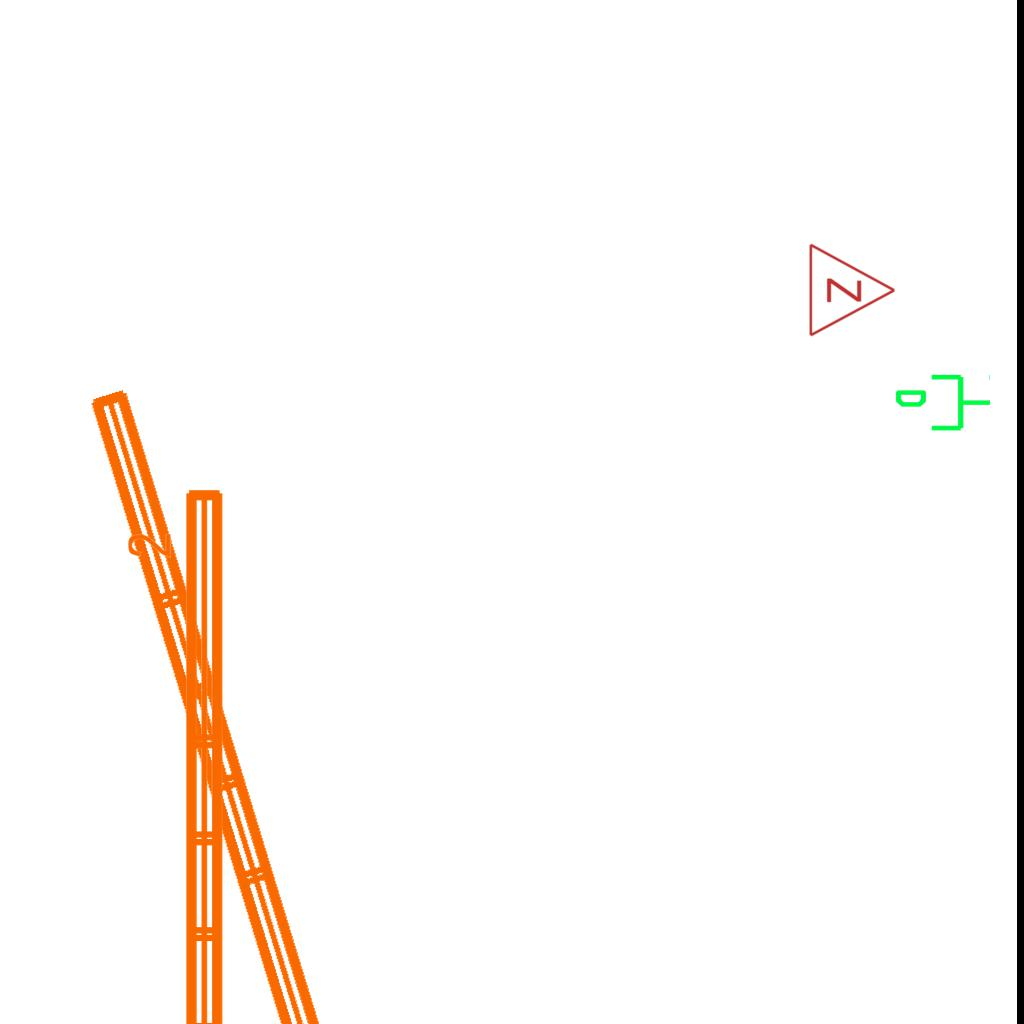Ambulanz_Pendelleuchte_LED: (75, 360, 409, 1024), (123, 481, 235, 1024)
Datenanschluss_einfach: (893, 370, 993, 439)
Zimmersignalleuchte: (802, 240, 902, 338)
